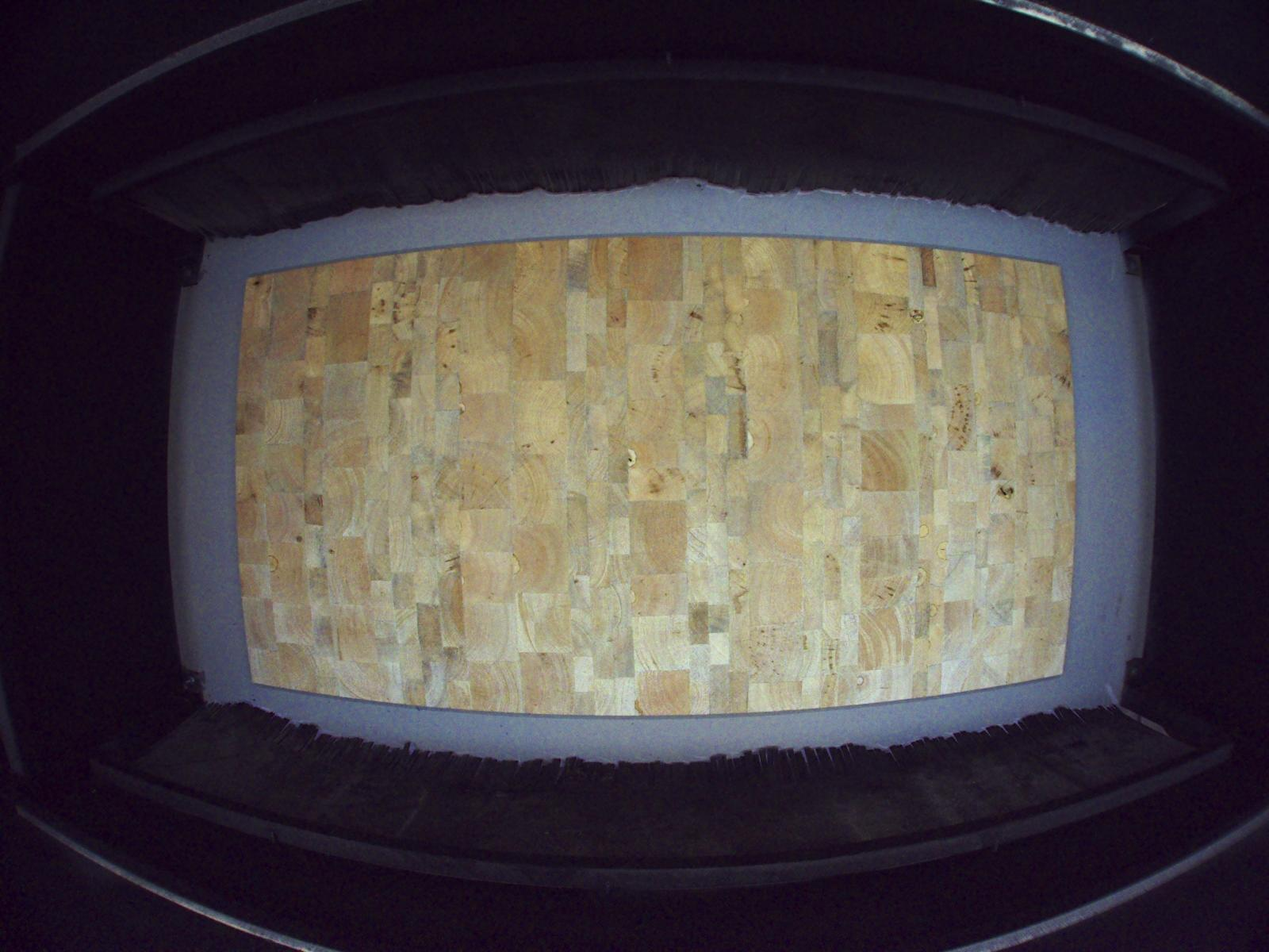sheck_ecuatoriano: (991, 480, 1015, 508)
